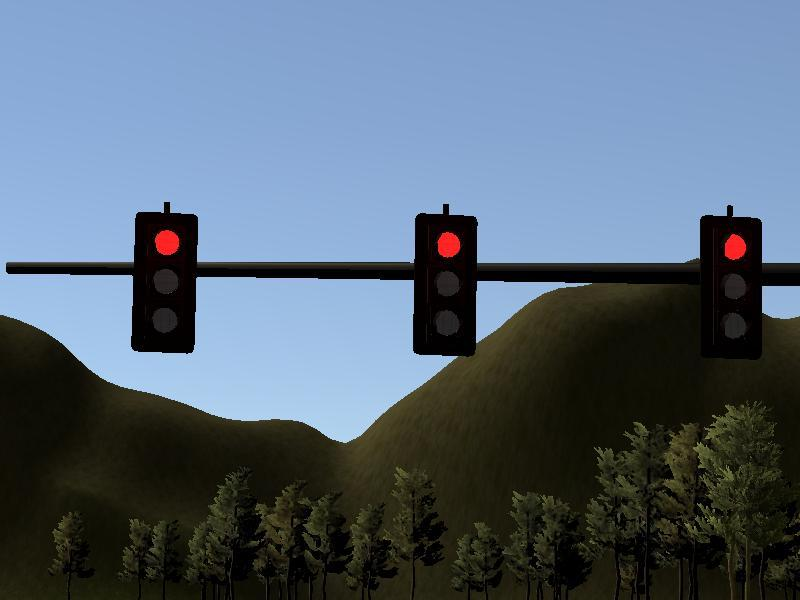Red: (416, 214, 475, 355), (701, 219, 760, 358), (138, 214, 193, 353)
